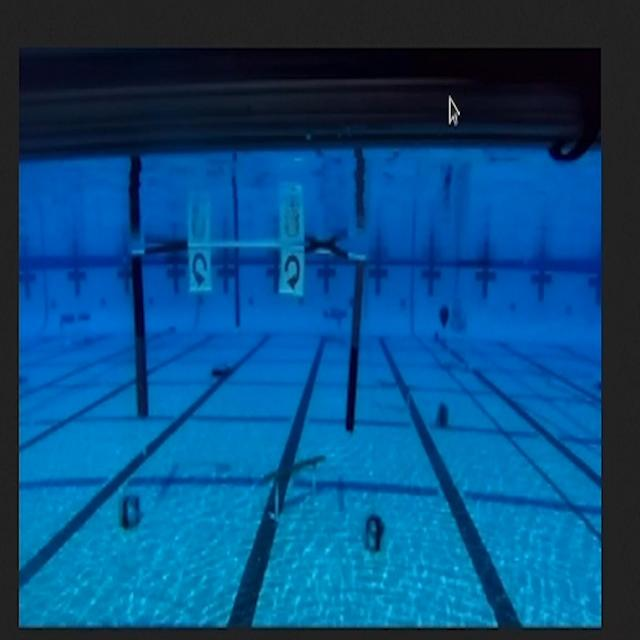Gate: (129, 243, 364, 432)
